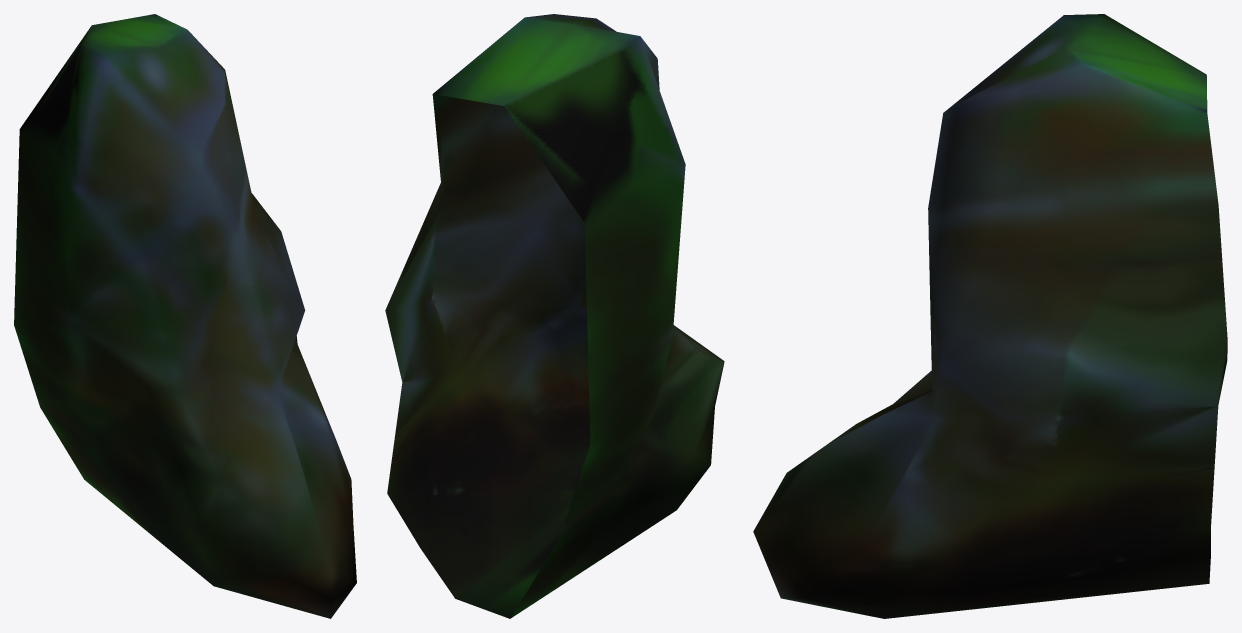
The model's file is rock5.fbx.
3 views of the same model, side by side, from view 1: azimuth 30°, elevation 25°; view 2: azimuth 150°, elevation 25°; view 3: azimuth 270°, elevation 25° (orthographic). The views are drawn at different scales.
Visible parts, largest first — view 1: Sphere.005; view 2: Sphere.005; view 3: Sphere.005.
Boxes of the visible parts, <box> form: Sphere.005: <box>14,14,356,618</box>; Sphere.005: <box>385,14,724,618</box>; Sphere.005: <box>753,14,1227,618</box>.
Size of the model in its own units: 2560 by 5463 by 4372.
